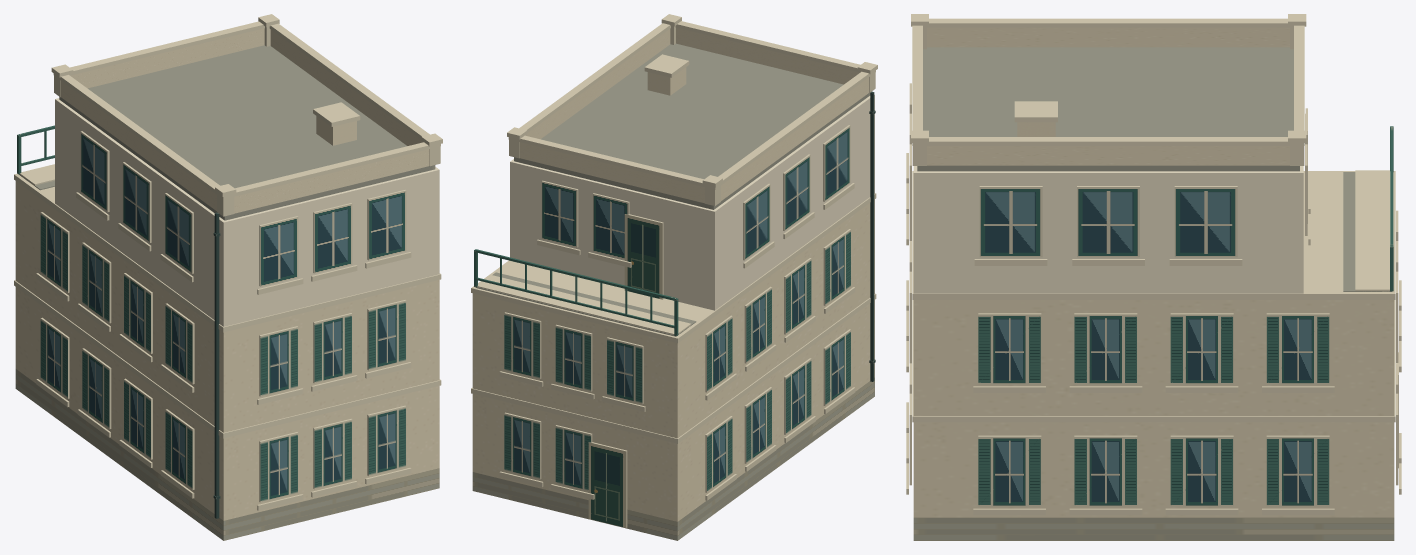
File: SM_QD_Flat_TerraceResidence.fbx
3 renders of one model, left to right at view 1: azimuth 30°, elevation 25°; view 2: azimuth 150°, elevation 25°; view 3: azimuth 270°, elevation 25°, orthographic. The views are drawn at different scales.
Parts seen in each view (by area): view 1: SM_QD_Flat_TerraceResidence; view 2: SM_QD_Flat_TerraceResidence; view 3: SM_QD_Flat_TerraceResidence.
Part boxes in pixels (<box>): SM_QD_Flat_TerraceResidence: <box>14,14,442,540</box>; SM_QD_Flat_TerraceResidence: <box>471,14,877,540</box>; SM_QD_Flat_TerraceResidence: <box>906,14,1401,540</box>.
Size of the model in its own units: 5.67 by 9.27 by 8.34.
1 material, 1 textured.
